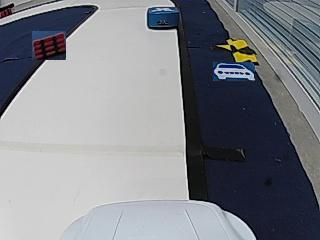prop: (147, 7, 179, 30)
